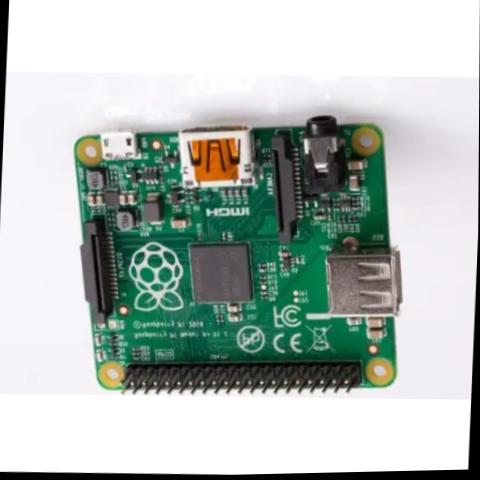Raspberry-Pi-1-Model-A-: (59, 92, 419, 406)
